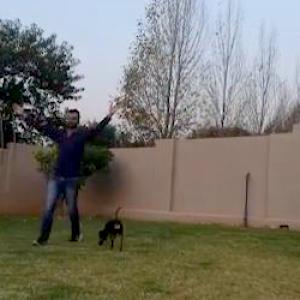takeoff: (28, 112, 126, 238)
